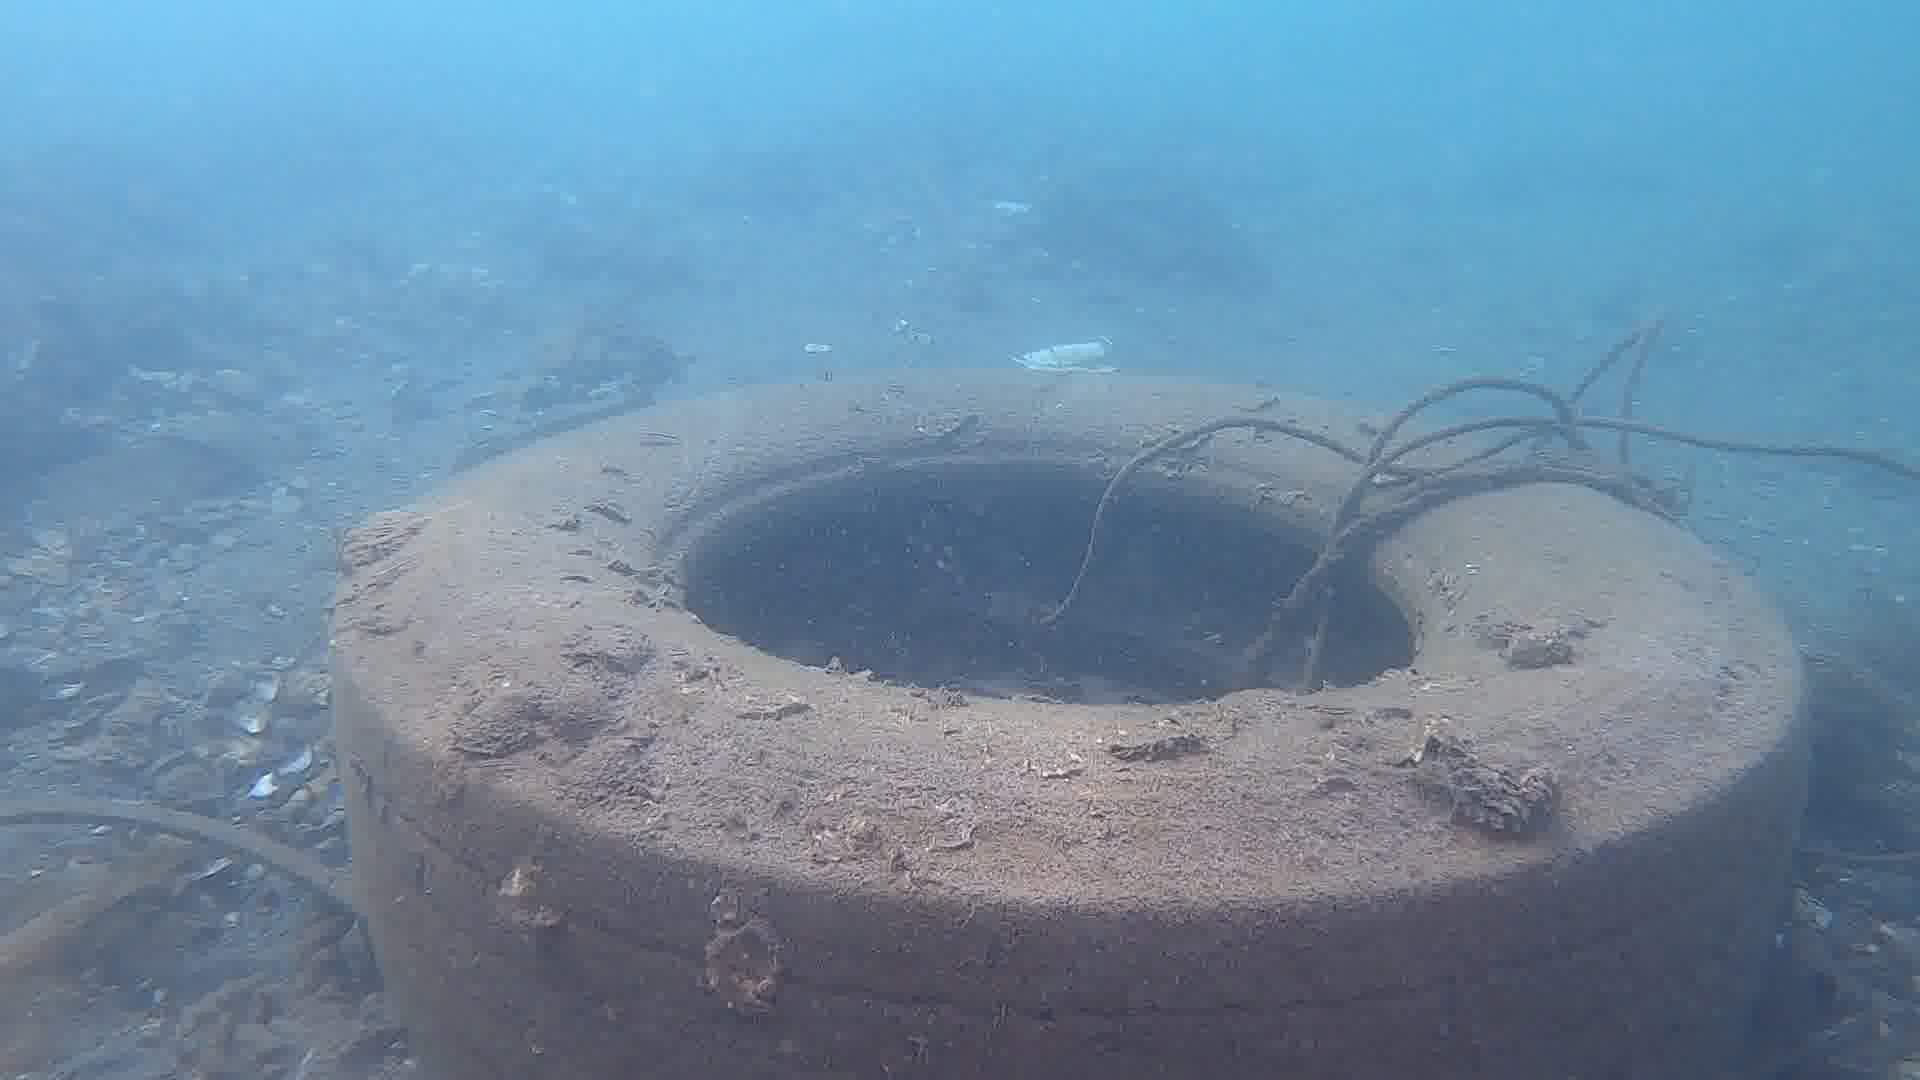bundle of ropes: (1036, 319, 1920, 688)
tire: (328, 367, 1811, 1080)
